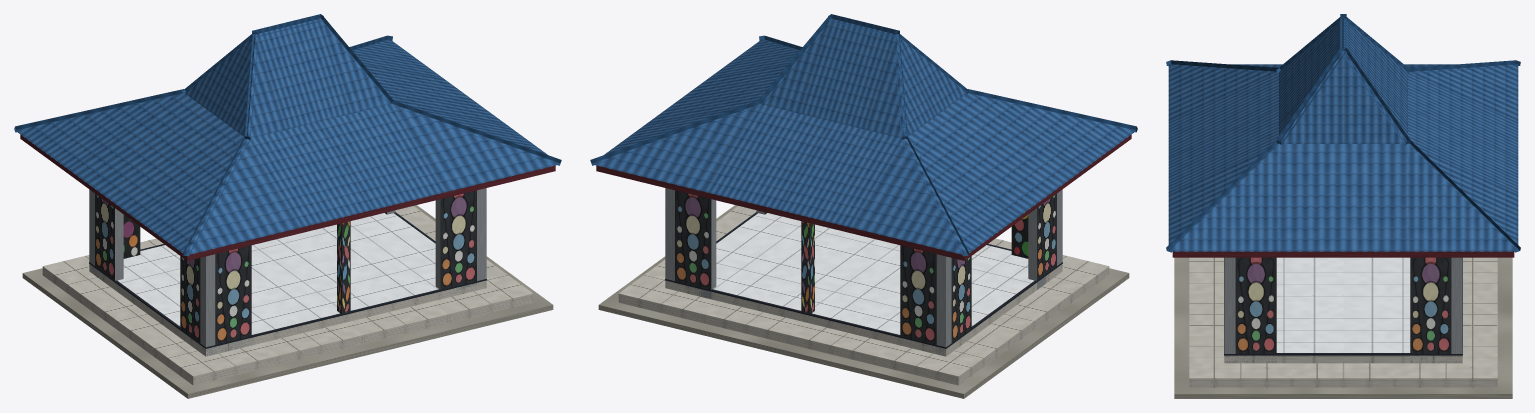
File: joglo_web.glb
3 renders of one model, left to right at view 1: azimuth 30°, elevation 25°; view 2: azimuth 150°, elevation 25°; view 3: azimuth 270°, elevation 25°, orthographic. The views are drawn at different scales.
Parts seen in each view (by area): view 1: Joglo_SMKN1Beringin; view 2: Joglo_SMKN1Beringin; view 3: Joglo_SMKN1Beringin.
Part boxes in pixels (bbox=[...]): Joglo_SMKN1Beringin: bbox=[14, 14, 561, 398]; Joglo_SMKN1Beringin: bbox=[590, 14, 1137, 398]; Joglo_SMKN1Beringin: bbox=[1166, 14, 1520, 398].
Size of the model in its own units: 9.58 by 6.53 by 7.6.
Materials: 1 (1 with a texture image).
